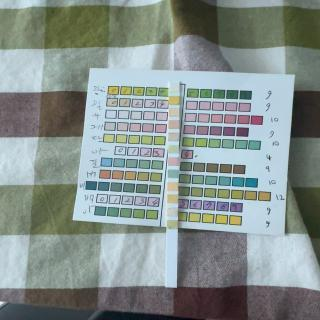mark: (167, 182, 178, 192), (168, 120, 180, 129), (169, 96, 179, 105), (167, 208, 178, 216), (168, 144, 179, 152), (168, 134, 179, 142), (166, 220, 176, 228), (168, 170, 178, 178), (168, 157, 178, 165), (168, 109, 178, 117), (169, 84, 178, 92), (167, 196, 177, 203)
